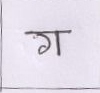aa_matra: (56, 33, 61, 55)
